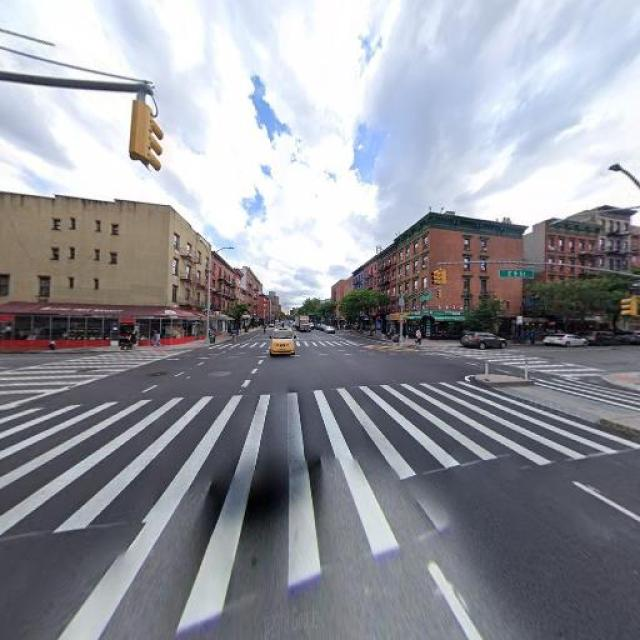Building: (1, 195, 212, 347), (359, 215, 527, 343)
